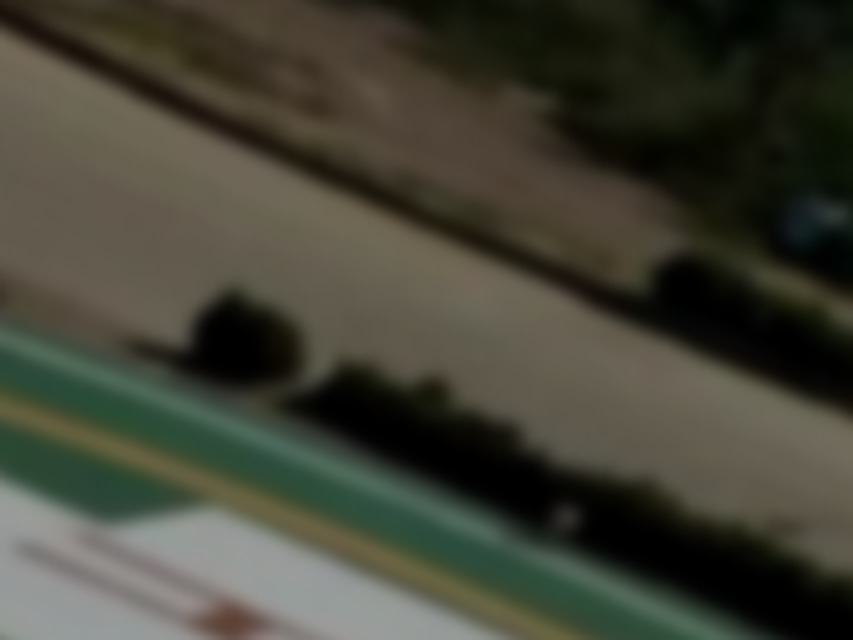Apron: (1, 384, 585, 640)
